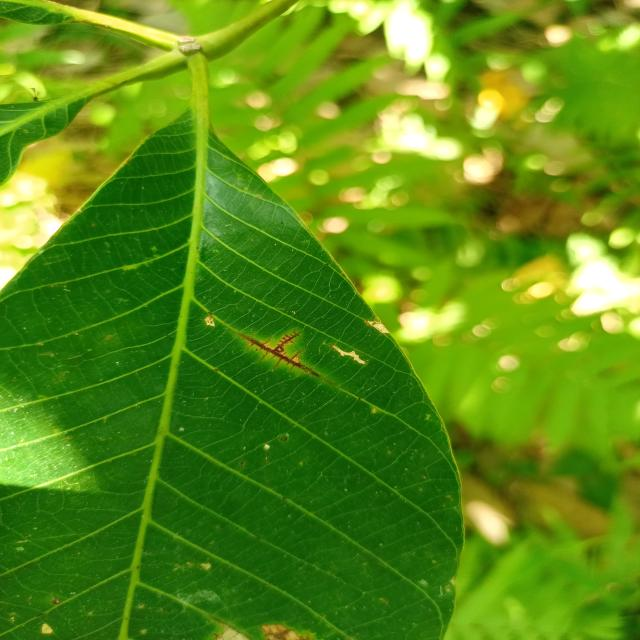Corynespora: (235, 328, 319, 377), (275, 329, 302, 351)
Leaf-Blight: (261, 624, 301, 640), (332, 345, 365, 364), (215, 623, 250, 640), (367, 321, 390, 334), (41, 623, 53, 634), (205, 316, 215, 327)
